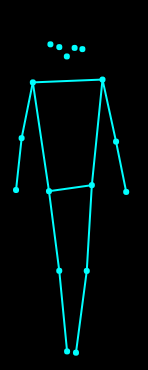mountain: (10, 33, 132, 357)
